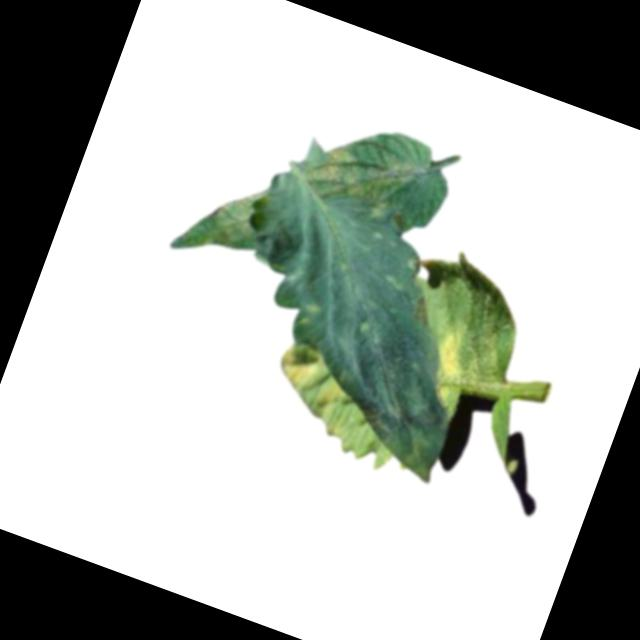Leaf_Mold: (303, 134, 411, 220), (203, 178, 269, 255), (270, 337, 329, 402), (425, 320, 479, 389)
